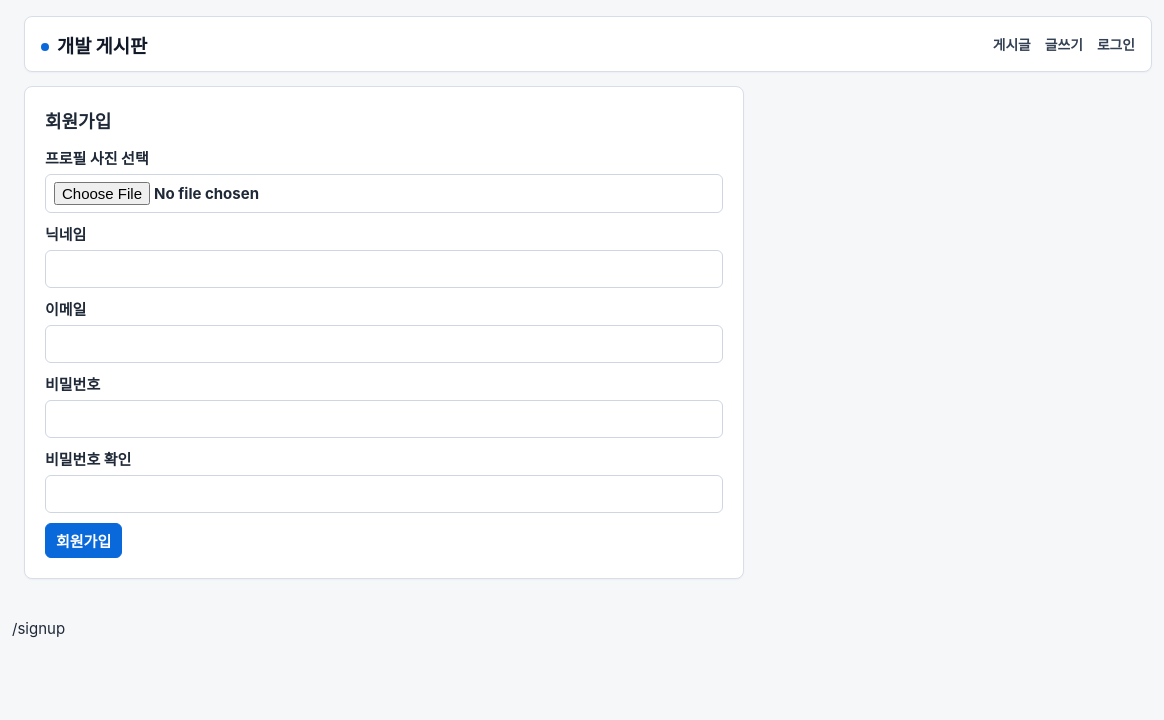
Test: 인증 폼 › 프로필 사진 없이 회원가입을 요청한다
The image size is (1164, 720).
Type "tester" into the field labelled "닉네임" at (384, 269), box [45,250,723,288]
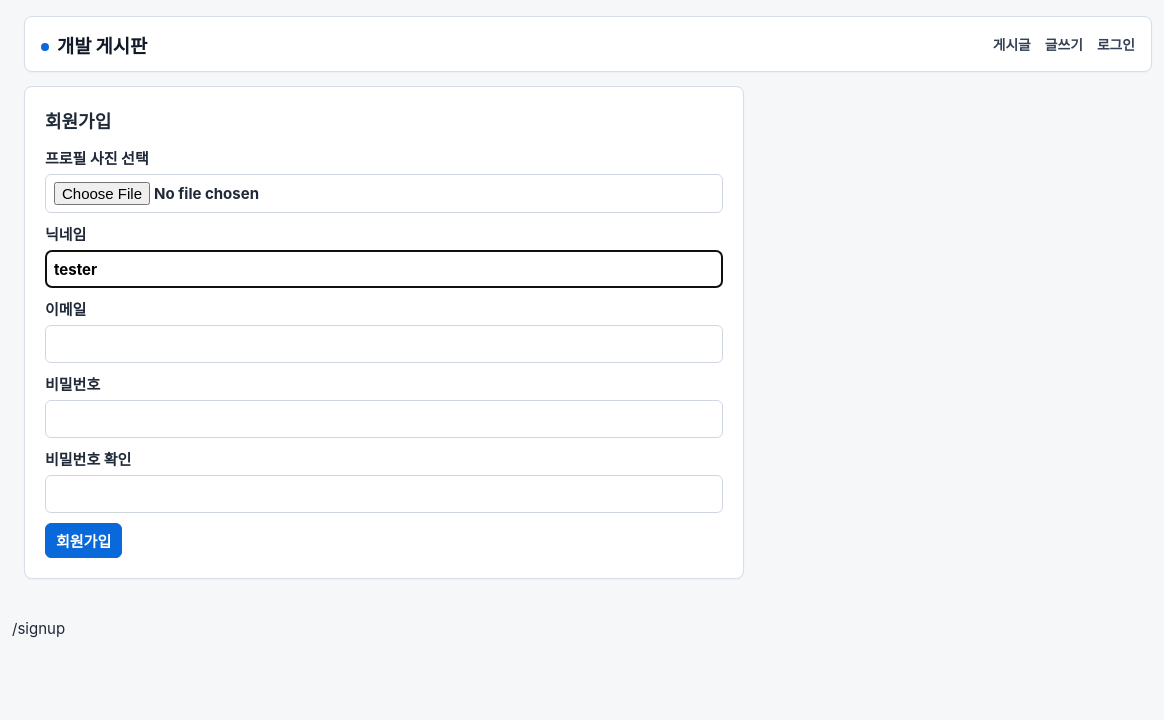
Type "tester@example.com" into the field labelled "이메일" at (384, 344), box [45,325,723,363]
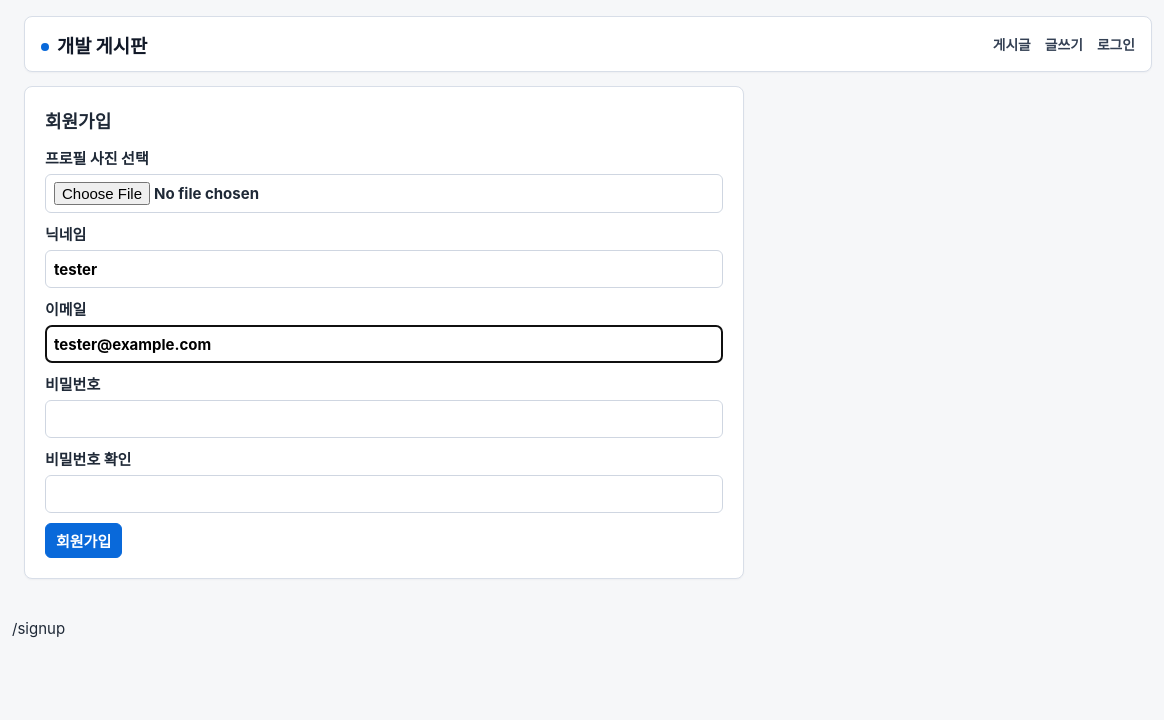
Type "Password1!" into the password field labelled "비밀번호" at (384, 419), box [45,400,723,438]
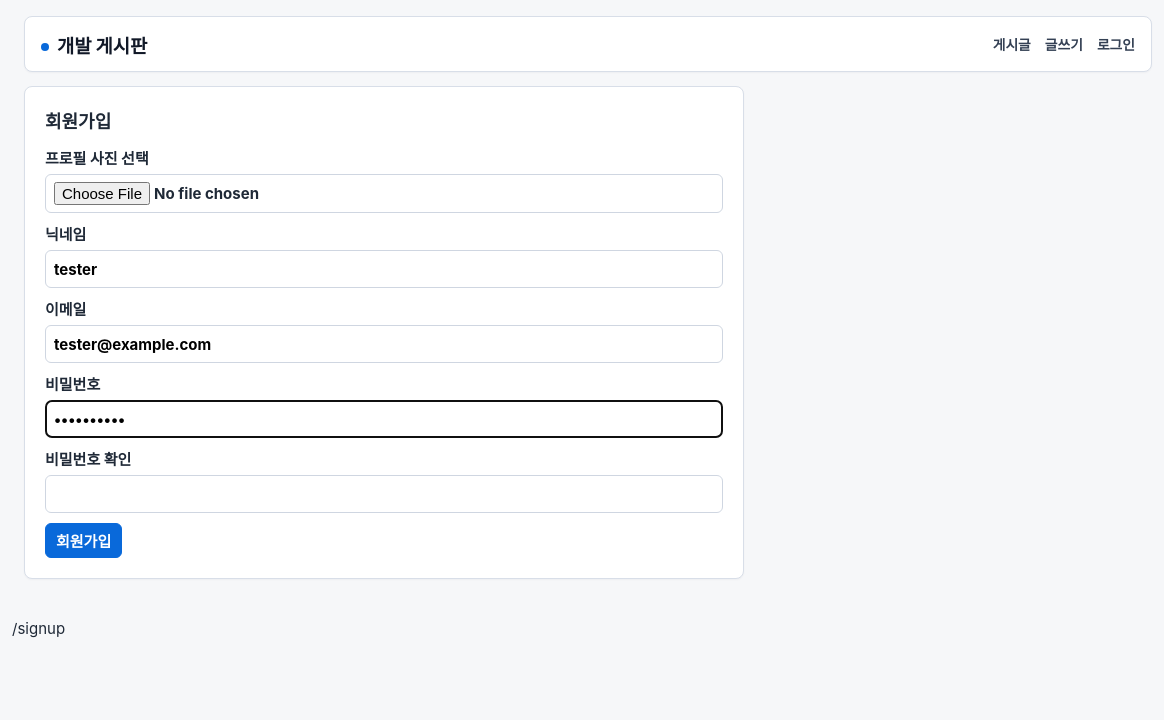
Type "Password1!" into the password field labelled "비밀번호 확인" at (384, 494), box [45,475,723,513]
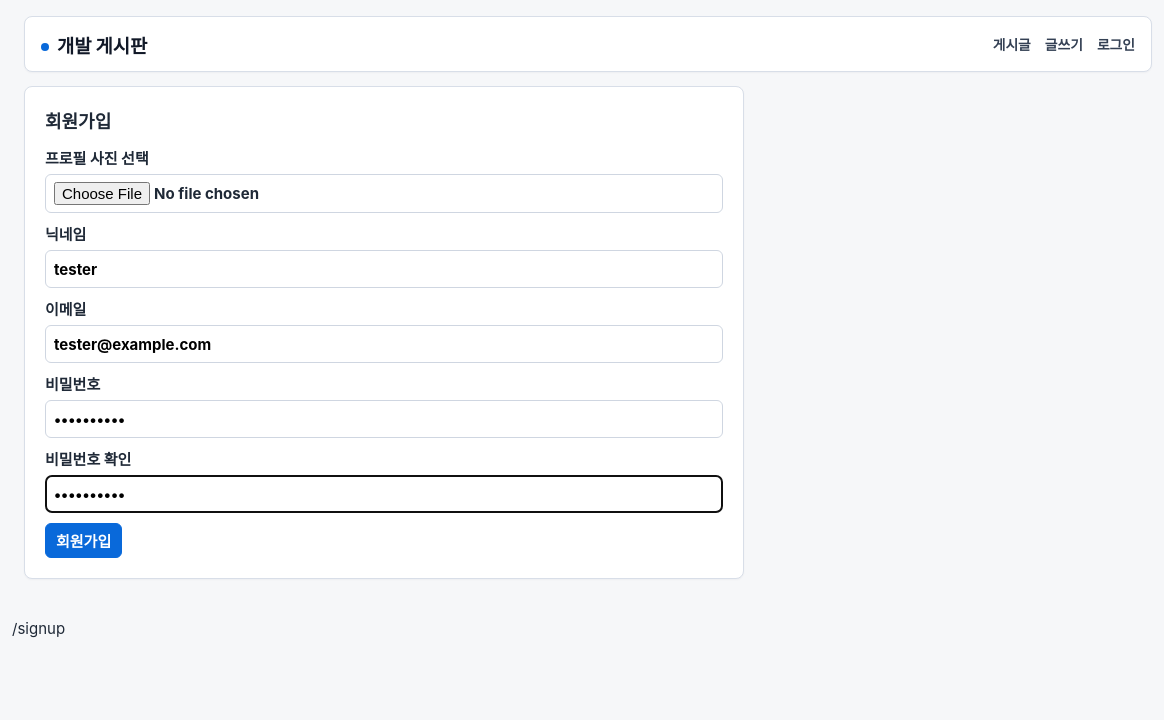
Click the button "회원가입" at (84, 540), box [45,523,122,558]
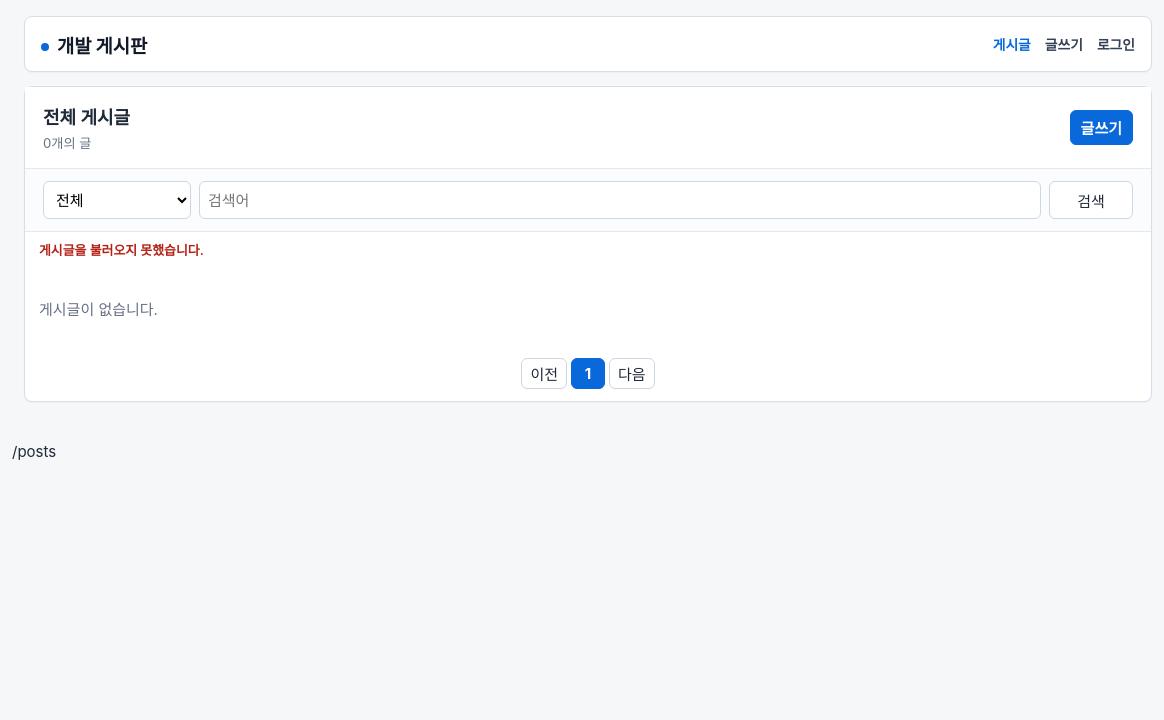
Expected: the text named "현재 주소" reads "/posts", [12,442,56,461]
